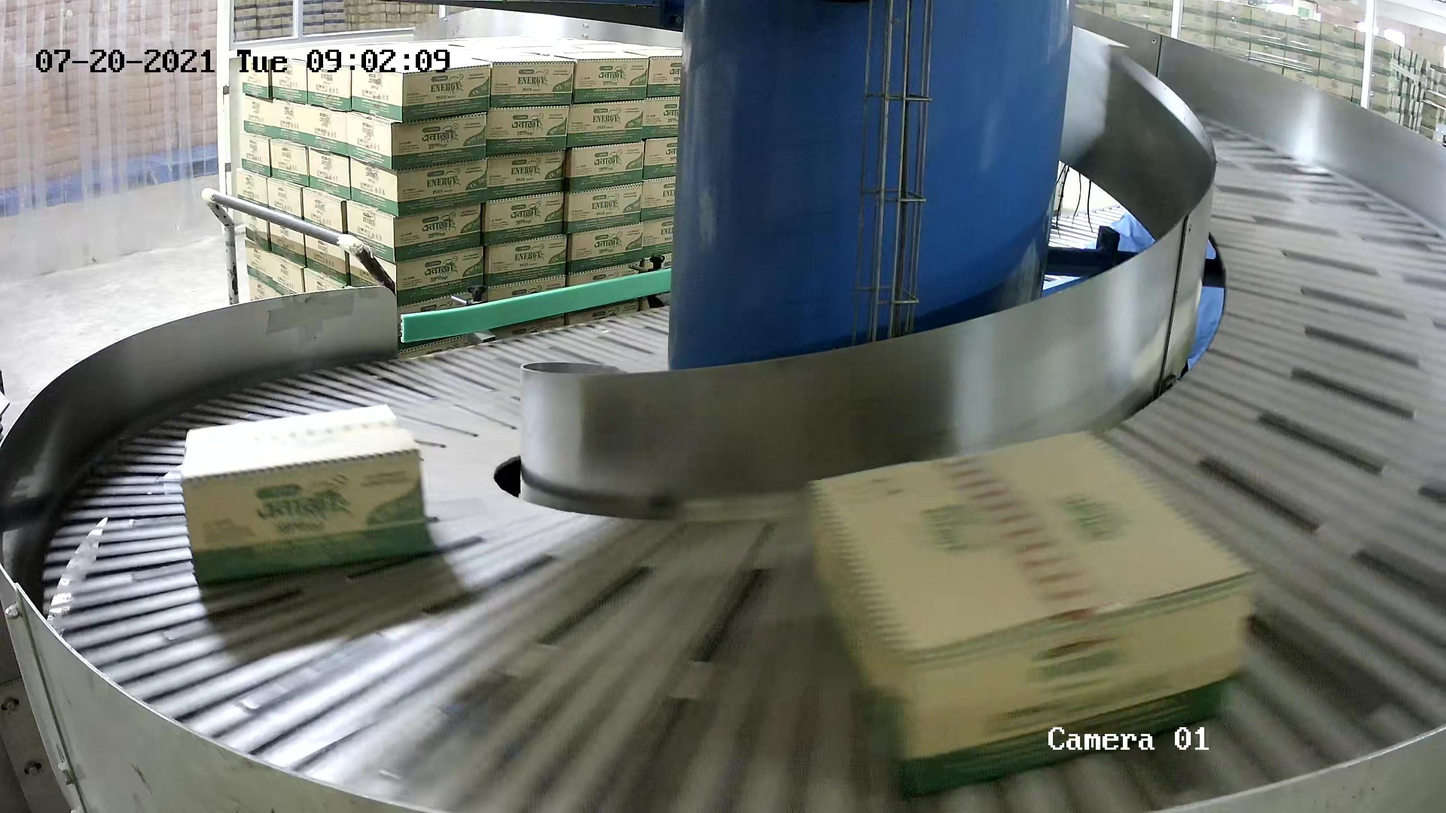Box: (805, 428, 1260, 801), (179, 403, 431, 588)
